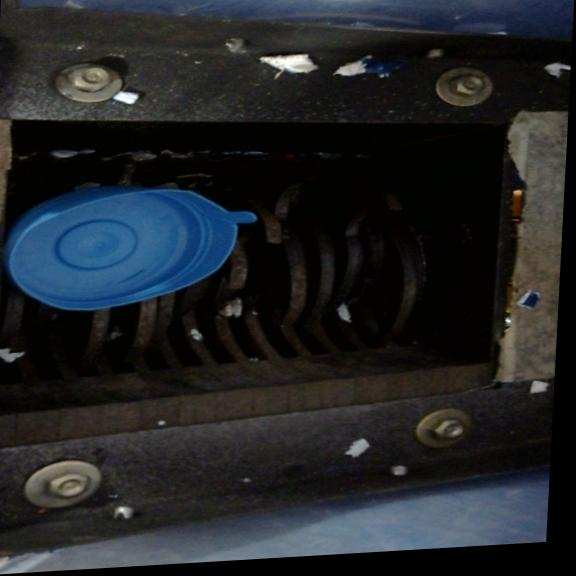Plastik: (0, 160, 250, 345)
